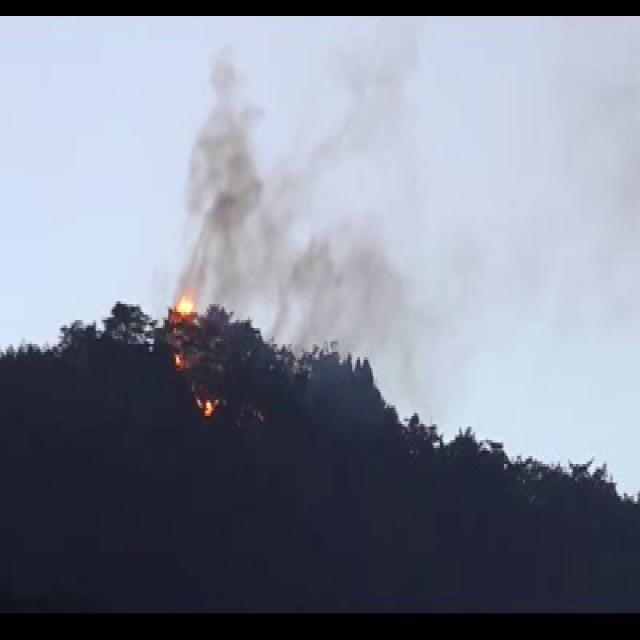smoke: (212, 62, 442, 334)
